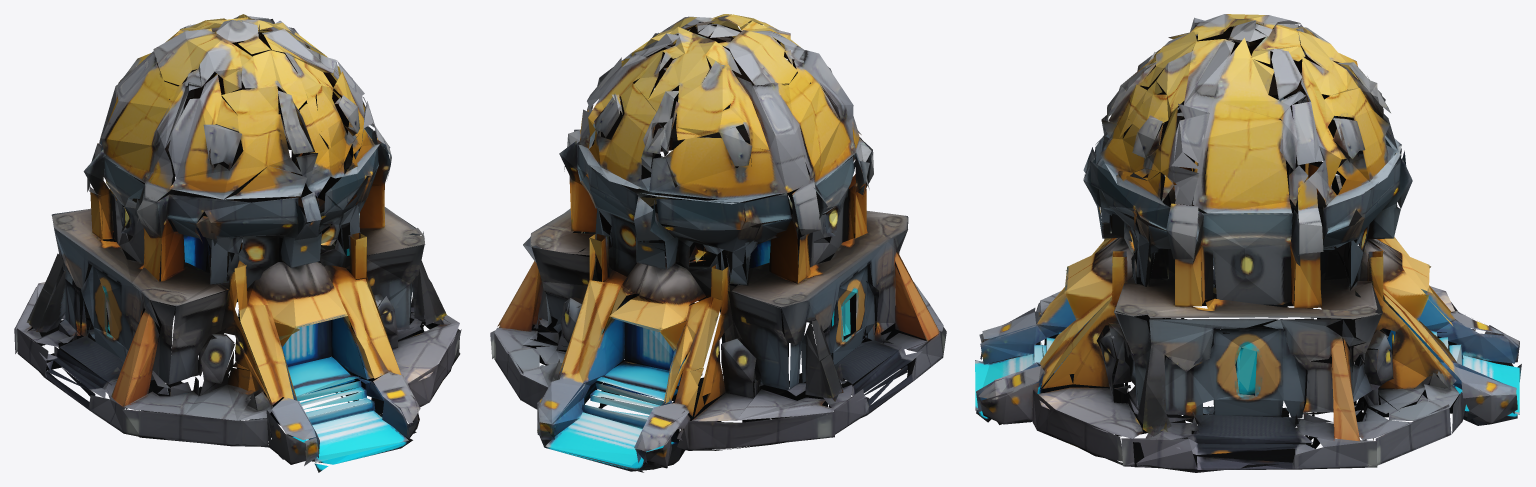
File: military_dome_t2.fbx
3 views of the same model, side by side, from view 1: azimuth 30°, elevation 25°; view 2: azimuth 150°, elevation 25°; view 3: azimuth 270°, elevation 25° (orthographic). The views are drawn at different scales.
Parts seen in each view (by area): view 1: military_dome_t2; view 2: military_dome_t2; view 3: military_dome_t2.
Boxes of the visible parts, x1=… form: military_dome_t2: x1=14, y1=14, x2=461, y2=472; military_dome_t2: x1=490, y1=14, x2=946, y2=472; military_dome_t2: x1=975, y1=14, x2=1521, y2=472.
Size of the model in its own units: 3.35 by 3.25 by 4.27.
1 material, 1 textured.
